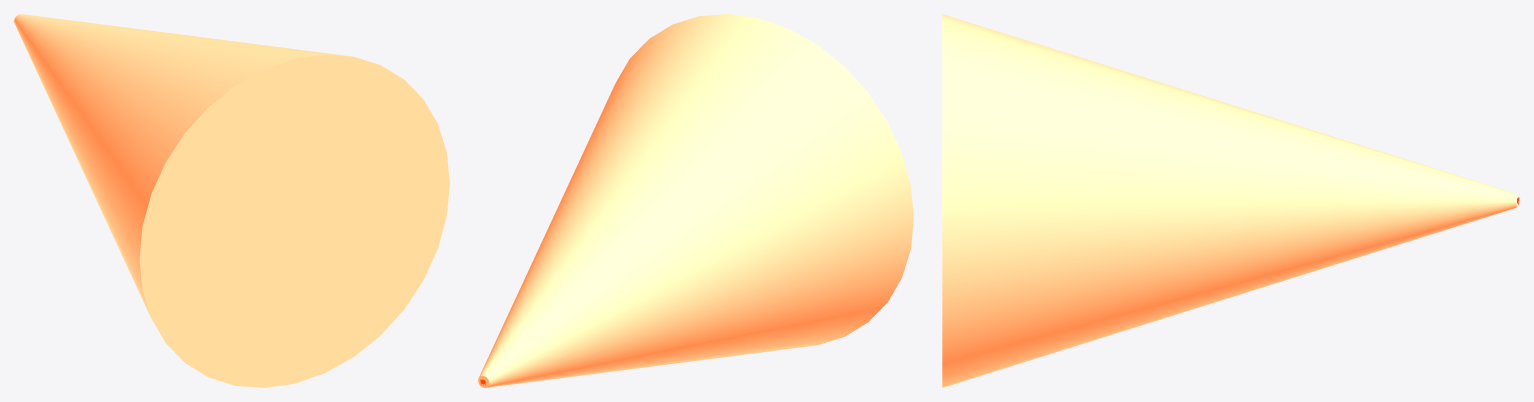
Rendered from ParLight--RTP-SplitMesh.fbx.
The picture shows the model from 3 angles, left to right: view 1: azimuth 30°, elevation 25°; view 2: azimuth 150°, elevation 25°; view 3: azimuth 270°, elevation 25°; orthographic projection. The views are drawn at different scales.
Visible parts, largest first — view 1: ParLight-Projection-ProjectionMesh; view 2: ParLight-Projection-ProjectionMesh; view 3: ParLight-Projection-ProjectionMesh.
Part boxes in pixels (x1,y1,x2,y2): ParLight-Projection-ProjectionMesh: (14,14,449,387); ParLight-Projection-ProjectionMesh: (478,14,913,387); ParLight-Projection-ProjectionMesh: (942,14,1516,387).
Bounding box in the file's own units: 26.12 × 26.12 × 40.25.
